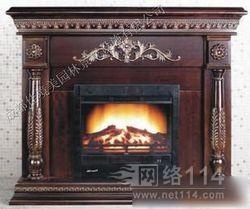fire: (87, 103, 165, 146)
